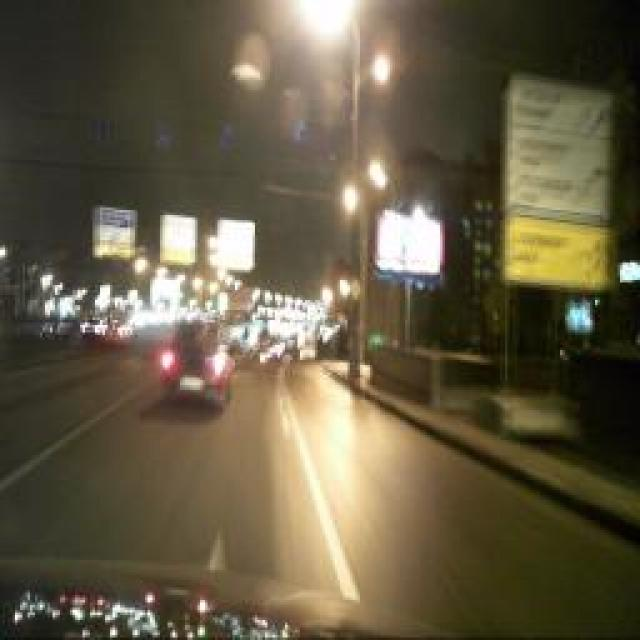sign: (349, 276, 361, 306)
